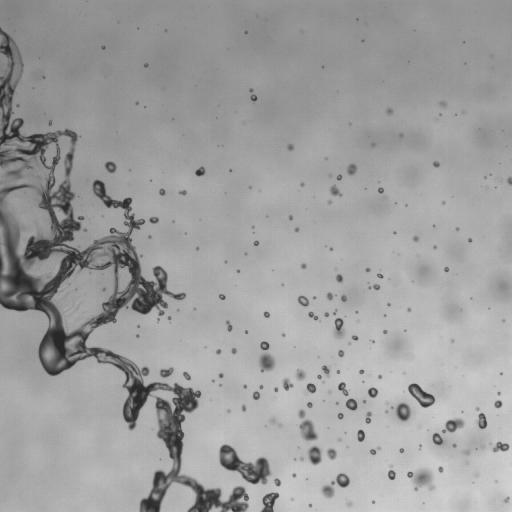droplet: (407, 468, 435, 491), (408, 383, 434, 407), (260, 492, 279, 511), (442, 418, 464, 432), (395, 402, 410, 421), (307, 446, 321, 465), (333, 318, 345, 338), (491, 441, 509, 452), (476, 412, 487, 429), (104, 161, 116, 173), (345, 398, 357, 410), (282, 377, 293, 390), (338, 382, 348, 396), (160, 367, 173, 377), (330, 185, 341, 196), (298, 295, 309, 306), (432, 433, 442, 445), (347, 164, 357, 175), (295, 369, 305, 380), (306, 383, 316, 394), (326, 448, 336, 459), (321, 365, 330, 377), (368, 387, 378, 397), (195, 167, 205, 176), (357, 429, 364, 441), (326, 292, 334, 300), (494, 400, 502, 408), (149, 216, 158, 223), (336, 274, 343, 282), (183, 372, 190, 380), (252, 391, 259, 399), (371, 284, 380, 290), (274, 478, 280, 486), (250, 94, 256, 101), (440, 101, 447, 107), (338, 350, 344, 357), (269, 418, 276, 424), (462, 449, 469, 455), (386, 108, 392, 114), (287, 144, 293, 150), (433, 161, 439, 167), (159, 189, 165, 195), (100, 286, 106, 292), (179, 190, 186, 195), (507, 177, 511, 185), (378, 187, 383, 193), (377, 273, 383, 278), (219, 294, 225, 299), (341, 295, 346, 301), (263, 312, 269, 317), (352, 335, 358, 340), (241, 405, 246, 411), (338, 413, 343, 419), (438, 466, 443, 472), (413, 236, 418, 241), (253, 240, 258, 245), (301, 263, 306, 268), (216, 349, 221, 354), (231, 348, 236, 353), (307, 402, 312, 407), (504, 497, 509, 502), (347, 501, 352, 506), (337, 175, 341, 180), (218, 373, 223, 377), (317, 374, 321, 379), (144, 63, 148, 67), (249, 88, 253, 92), (294, 227, 298, 231), (444, 267, 448, 271), (324, 312, 328, 316), (399, 448, 403, 452), (359, 370, 364, 373), (48, 121, 51, 125), (399, 133, 403, 136), (300, 183, 304, 186), (366, 268, 370, 271), (274, 387, 277, 391), (475, 407, 479, 410), (371, 143, 374, 146), (328, 200, 331, 203), (289, 216, 292, 219), (468, 238, 471, 241), (433, 245, 436, 248), (407, 308, 410, 311), (282, 333, 285, 336), (378, 375, 381, 378), (259, 385, 262, 388), (227, 409, 230, 412), (278, 424, 281, 427), (453, 444, 456, 447), (300, 457, 303, 460), (292, 474, 295, 477), (102, 46, 104, 49), (84, 228, 86, 231), (313, 296, 315, 299), (334, 310, 336, 313), (384, 330, 386, 333), (243, 385, 246, 387), (363, 400, 365, 403), (456, 228, 458, 230), (330, 248, 332, 250), (168, 317, 170, 319), (371, 340, 373, 342), (451, 340, 453, 342), (328, 391, 330, 393), (419, 446, 421, 448), (481, 446, 483, 448), (476, 474, 478, 476)
ligament: (0, 28, 246, 511), (219, 444, 271, 484), (321, 473, 350, 498), (298, 409, 317, 441), (259, 341, 275, 371), (388, 464, 396, 479), (308, 312, 318, 320), (370, 446, 380, 454), (365, 411, 371, 423), (226, 320, 232, 331)
